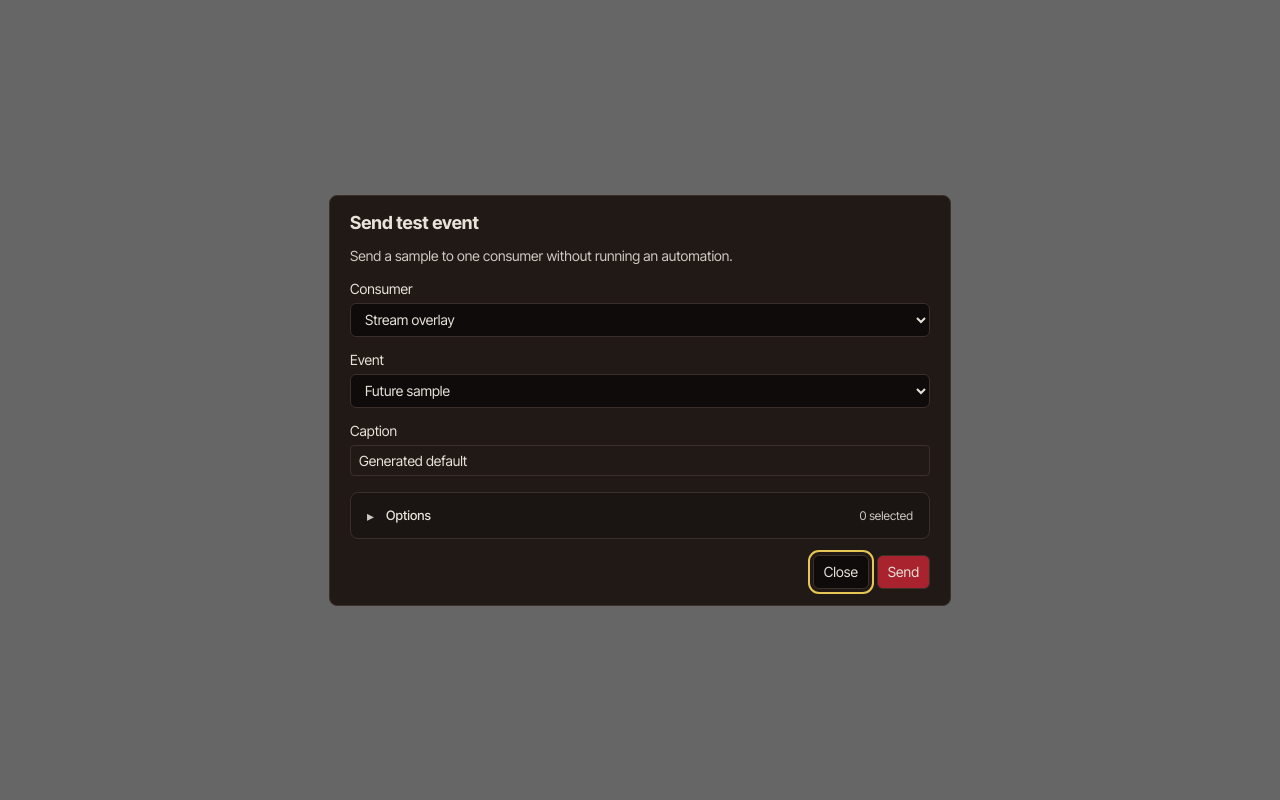
Test: loads generated choice sources by their declared key and retains native errors without losing the draft
Click the text "Options".
click(408, 515)  # box [386,507,431,523]
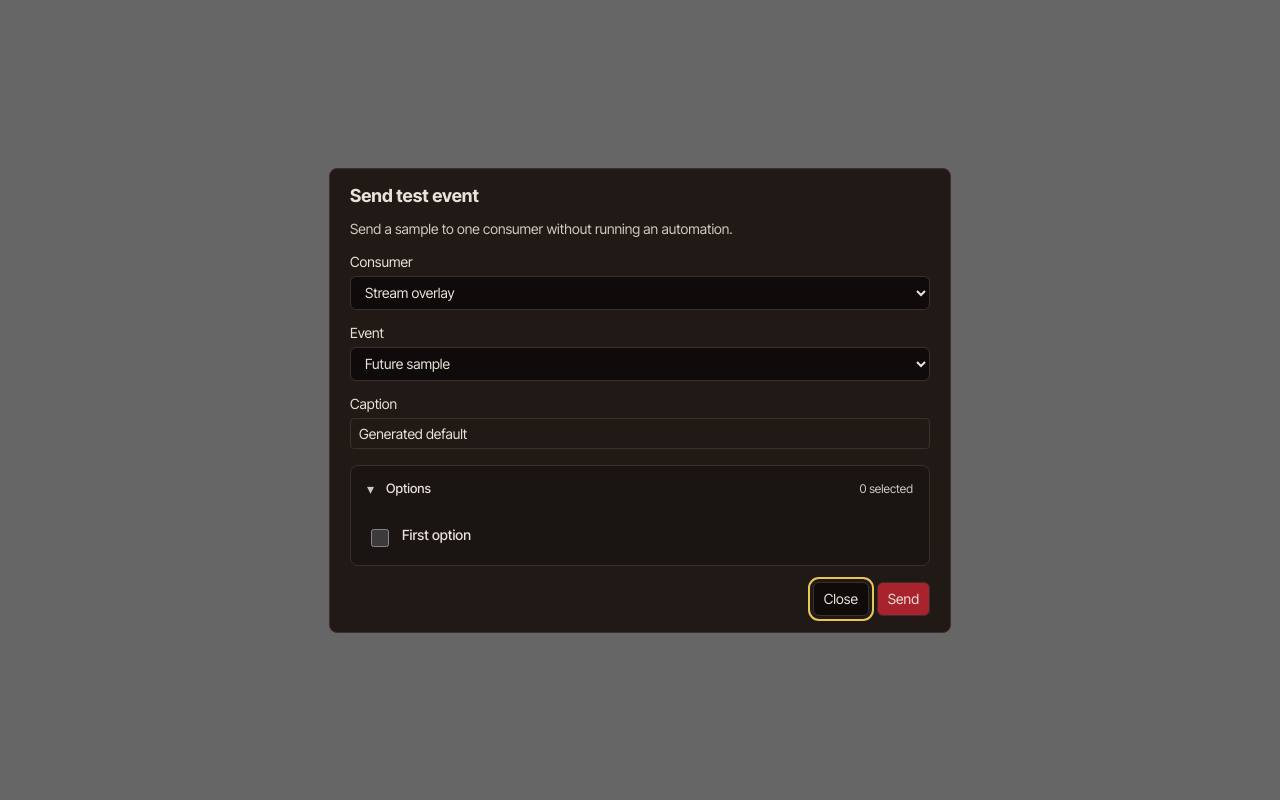
Click the checkbox labelled "First option".
click(380, 538)  # box [371,528,389,546]
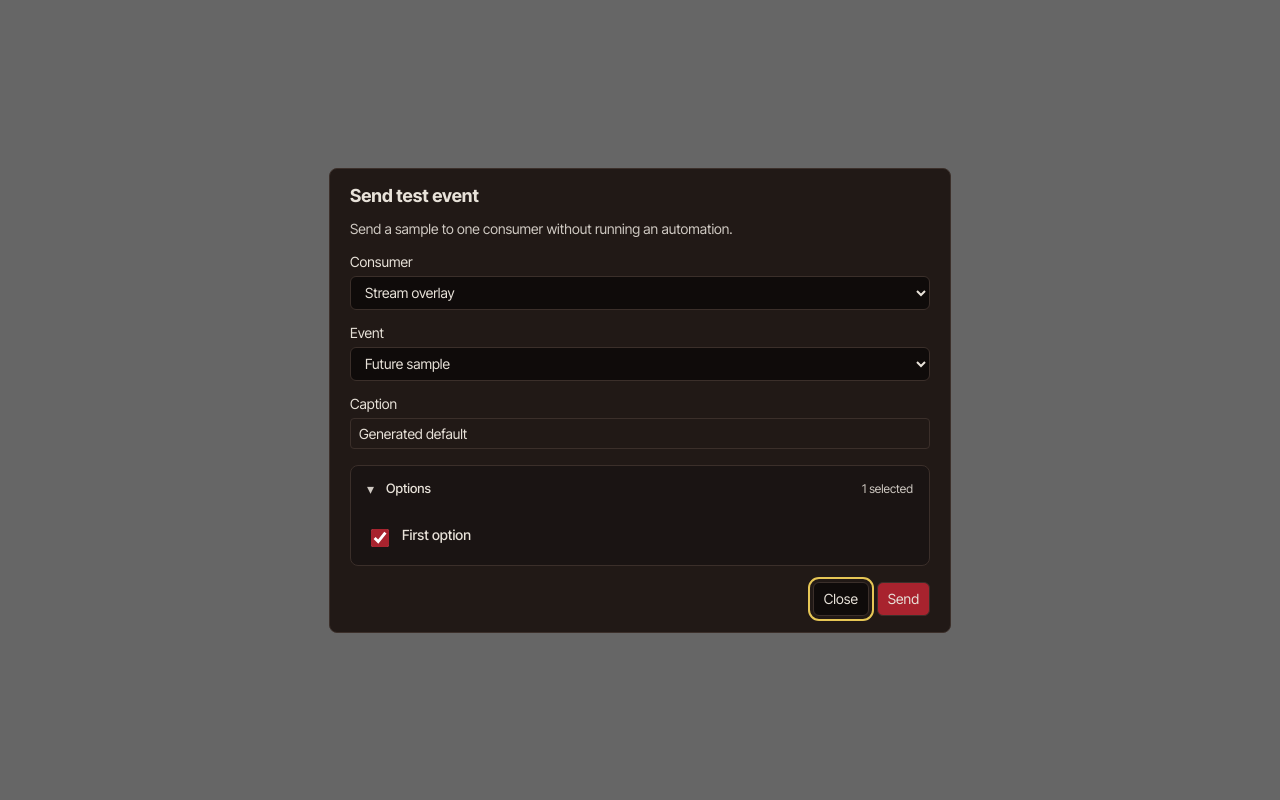
Click the button "Send".
click(903, 598)  # box [877,582,930,616]
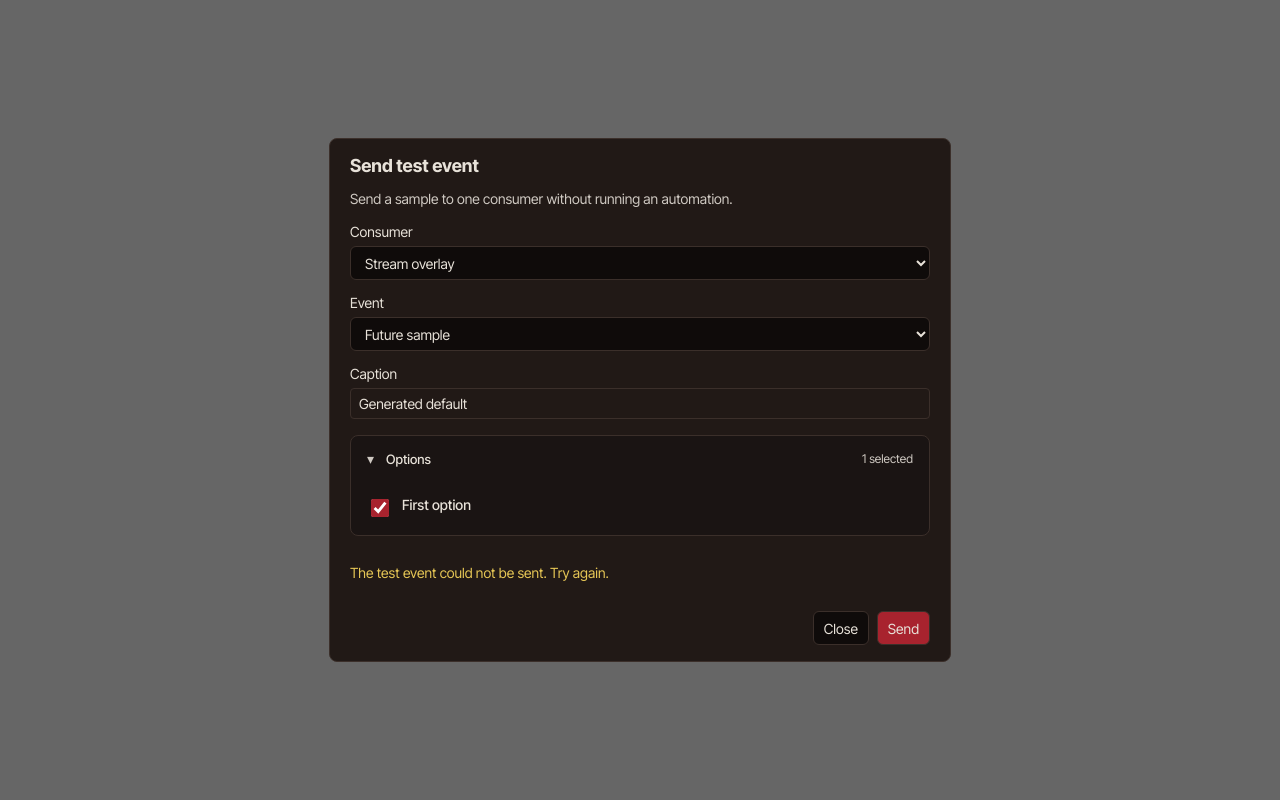
Check: the field labelled "Caption" holds "Generated default", box [350,388,930,419]
Check: the message shows "could not be sent", box [350,564,609,581]
